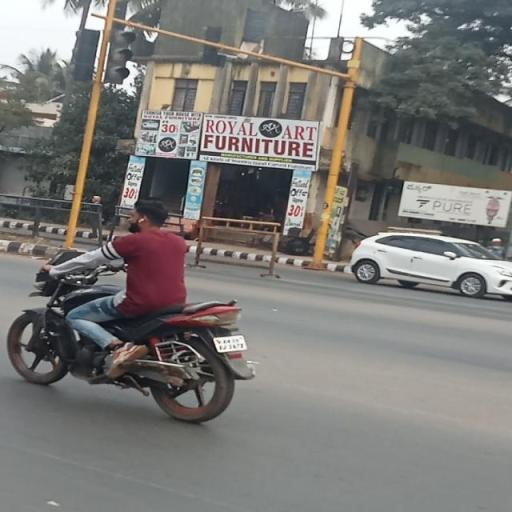bike: (3, 192, 260, 424)
withouthelmet: (133, 198, 169, 228)
